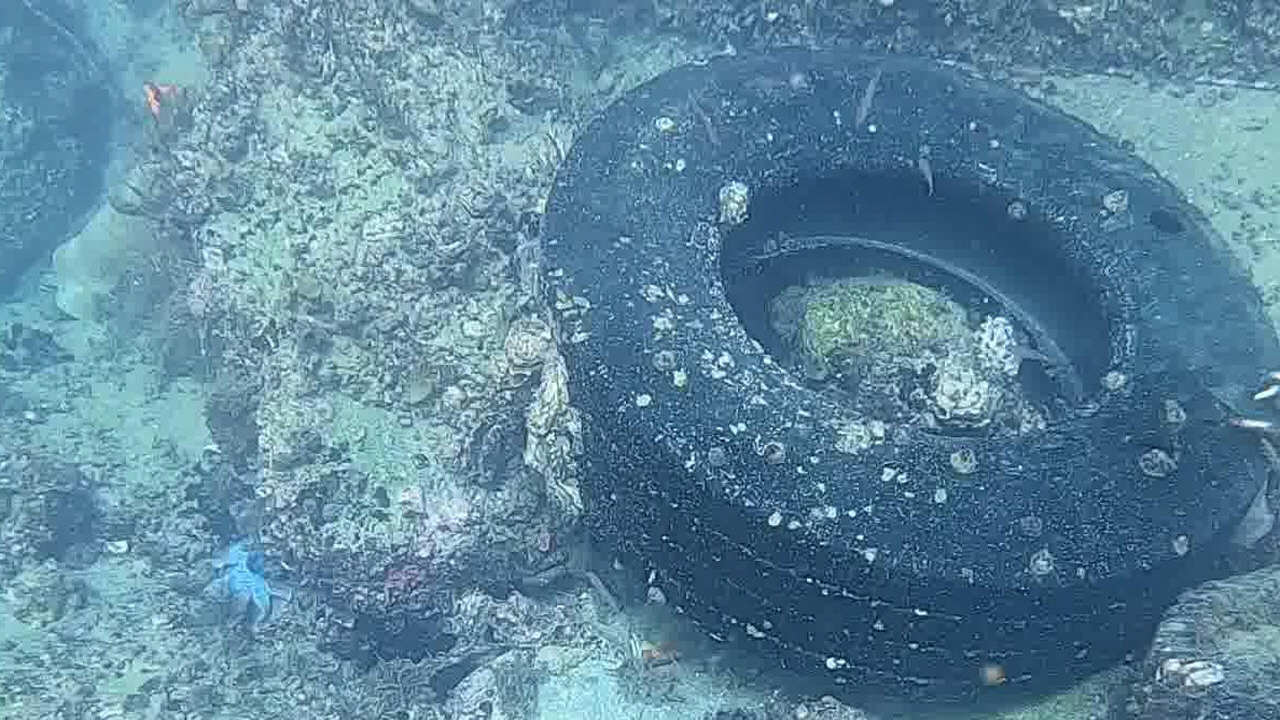tire: (536, 48, 1280, 705)
